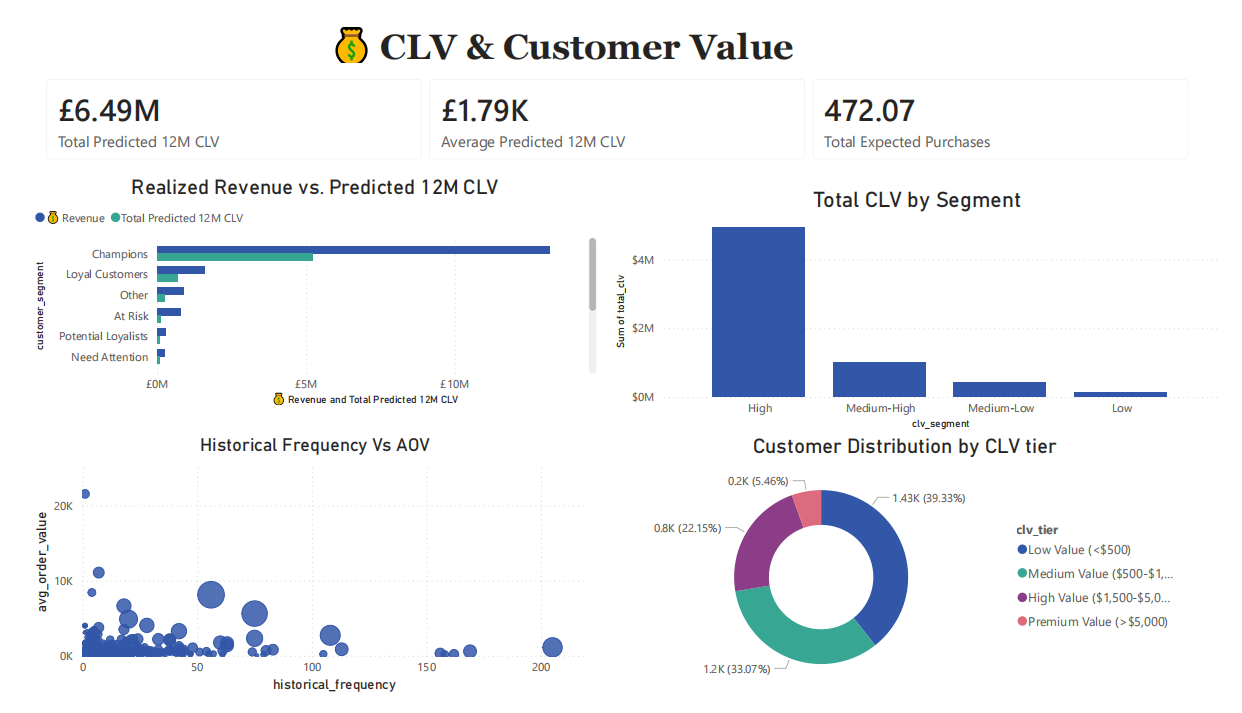

The page's visual inventory and layout, read from the dashboard file:
{"tool":"powerbi","page":{"name":"CLV & Customer Value","canvas":[1280,720],"ordinal":2},"visuals":[{"type":"textbox","box":[328.6,0,603.4,61.8],"z":0},{"type":"clusteredColumnChart","title":"Total CLV by Segment","fields":{"Category":["clv_segment_summary.clv_segment"],"Y":["Sum(clv_segment_summary.total_clv)"]},"box":[631.2,181.4,648.2,260.8],"z":1000},{"type":"scatterChart","title":"Historical Frequency Vs AOV","fields":{"X":["customer_360_view.historical_frequency"],"Y":["customer_360_view.avg_order_value"],"Size":["Calendar.💰 Revenue"]},"box":[15.1,442.2,604.7,277.8],"z":2000},{"type":"donutChart","title":"Customer Distribution by CLV tier","fields":{"Category":["dim_customer_clv.clv_tier"],"Y":["CountNonNull(dim_customer_clv.customer_id)"]},"box":[640.6,442.2,602.8,277.8],"z":3000},{"type":"clusteredBarChart","title":"Realized Revenue vs. Predicted 12M CLV","fields":{"Category":["dim_customer.customer_segment"],"Y":["Calendar.💰 Revenue","Calendar.Total Predicted 12M CLV"]},"box":[15.1,168.2,604.7,247.6],"z":4000},{"type":"cardVisual","fields":{"Data":["Calendar.Total Predicted 12M CLV","Calendar.Average Predicted 12M CLV","Calendar.Total Expected Purchases"]},"box":[15.1,49.1,1245.4,119.1],"z":5000}]}

Visuals, with their boxes in screenshot pixels (x1, y1, x2, y2), scaled from the page's 1280x720 canvas onto the 1242x713 screenshot:
textbox: <region>319, 0, 904, 61</region>
"Total CLV by Segment" clusteredColumnChart: <region>612, 180, 1241, 438</region>
"Historical Frequency Vs AOV" scatterChart: <region>15, 438, 601, 712</region>
"Customer Distribution by CLV tier" donutChart: <region>622, 438, 1206, 712</region>
"Realized Revenue vs. Predicted 12M CLV" clusteredBarChart: <region>15, 167, 601, 412</region>
cardVisual - Calendar.Total Predicted 12M CLV x Calendar.Average Predicted 12M CLV: <region>15, 49, 1223, 167</region>
